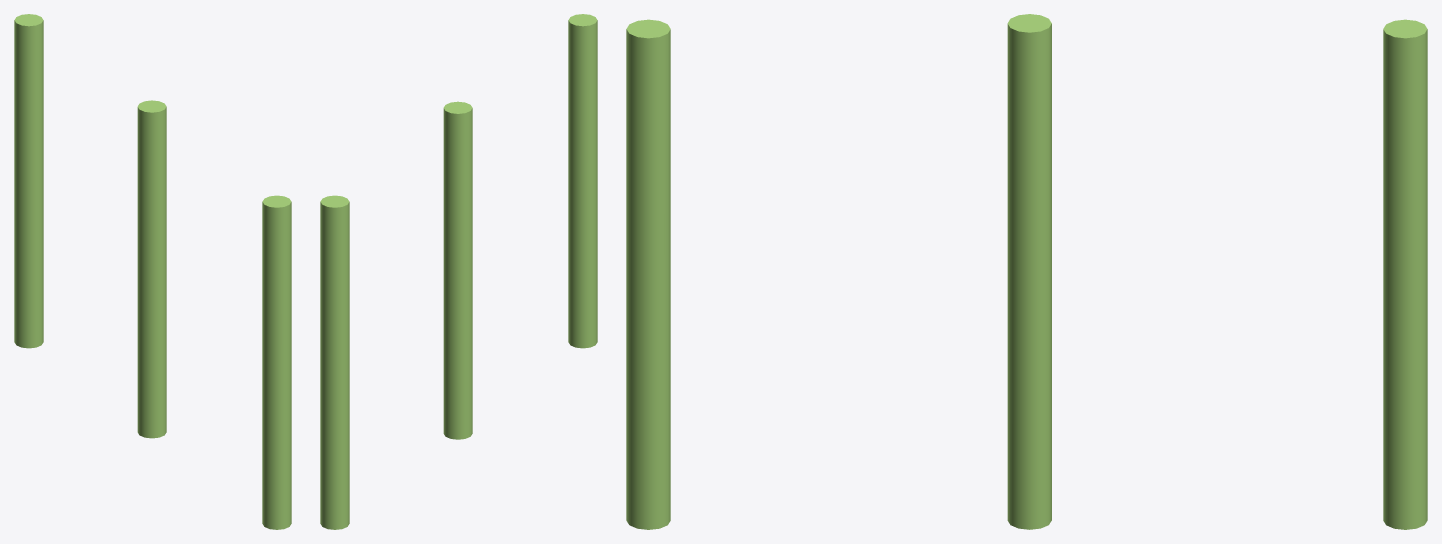
The model's file is Wall_Arc_01B_Lod0.fbx.
The picture shows the model from 3 angles, left to right: view 1: azimuth 30°, elevation 25°; view 2: azimuth 150°, elevation 25°; view 3: azimuth 270°, elevation 25°; orthographic projection. The views are drawn at different scales.
Parts seen in each view (by area): view 1: Wall_Arc_01B_Lod0; view 2: Wall_Arc_01B_Lod0; view 3: Wall_Arc_01B_Lod0.
Part boxes in pixels (x1,y1,x2,y2): Wall_Arc_01B_Lod0: (14, 14, 291, 529); Wall_Arc_01B_Lod0: (320, 14, 597, 529); Wall_Arc_01B_Lod0: (626, 14, 1427, 529).
Size of the model in its own units: 23.57 by 292 by 426.
